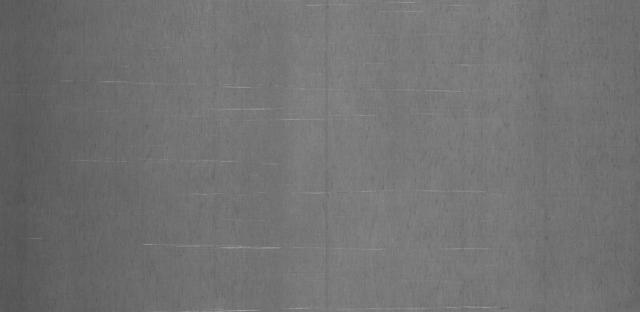waist_folding: (96, 27, 542, 280)
